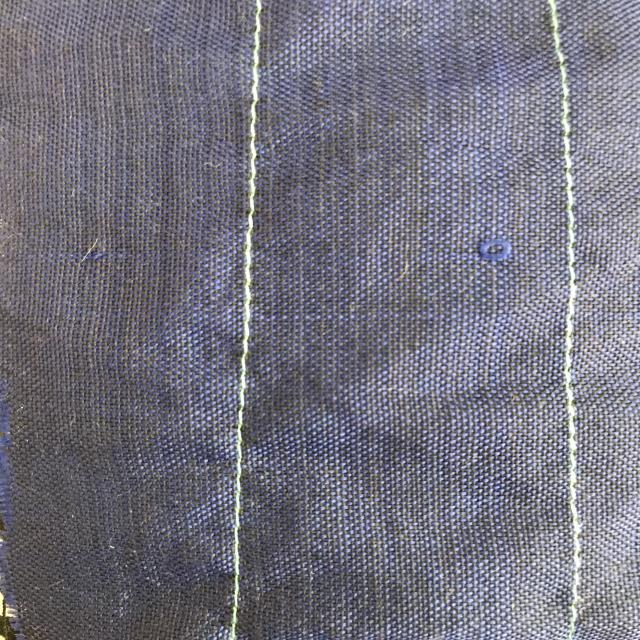good: (214, 426, 261, 612)
